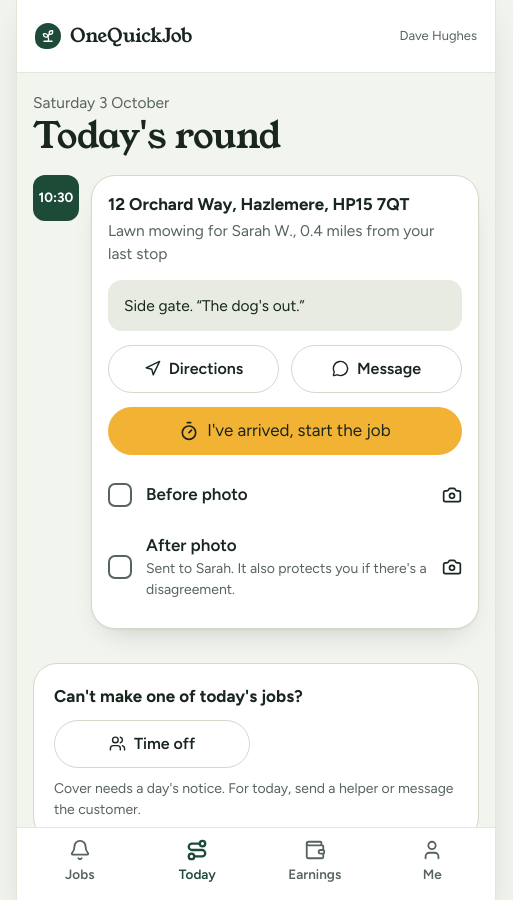
the provider app › starts today's job from the round
Expected: the heading "Today's round" is shown, [33, 110, 281, 161]
Click the button "I've arrived, start the job": coordinates (285, 431) [108, 407, 462, 455]
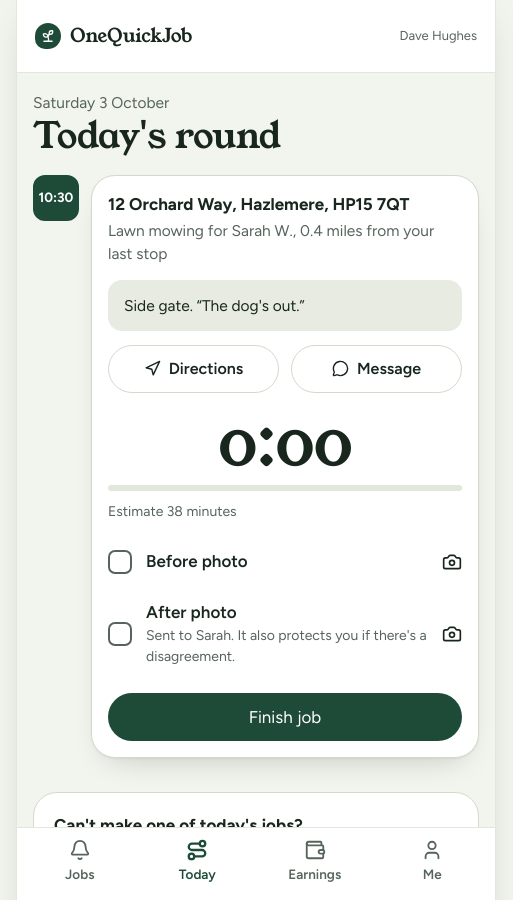
Expected: the text "0:00" is shown, [218, 398, 352, 488]
Expected: the button "Finish job" is shown, [108, 693, 462, 741]
